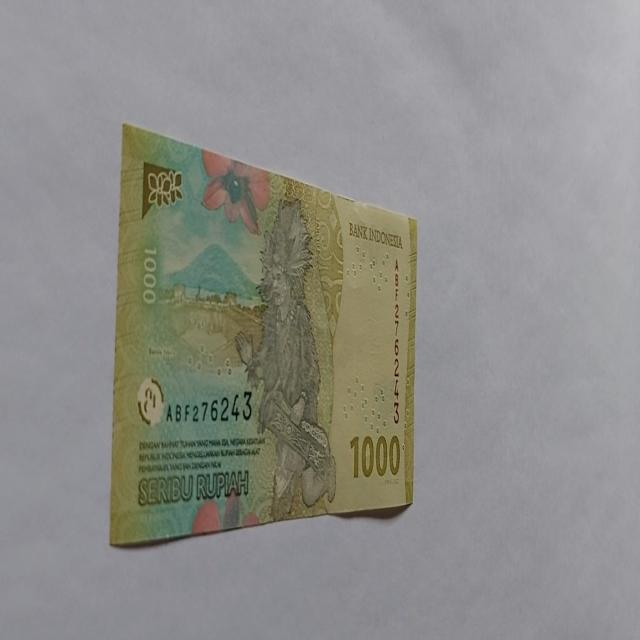seribu rupiah kertas: (108, 121, 418, 547), (235, 195, 337, 521)
